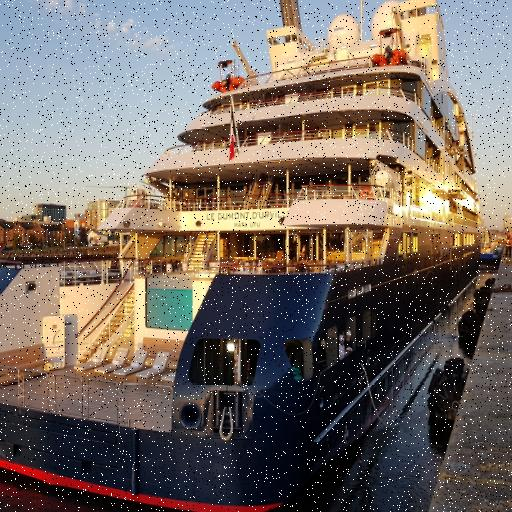cruises: (1, 1, 487, 512)
